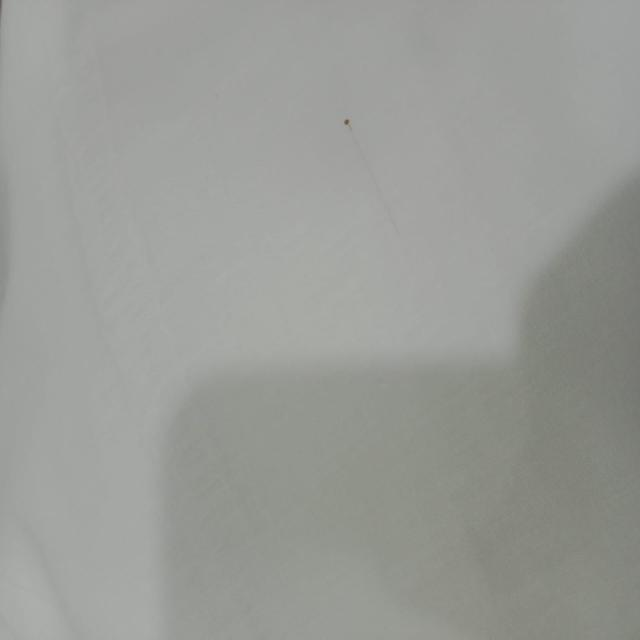stain: (336, 102, 366, 149)
